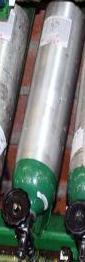cylinder: (1, 1, 85, 262)
